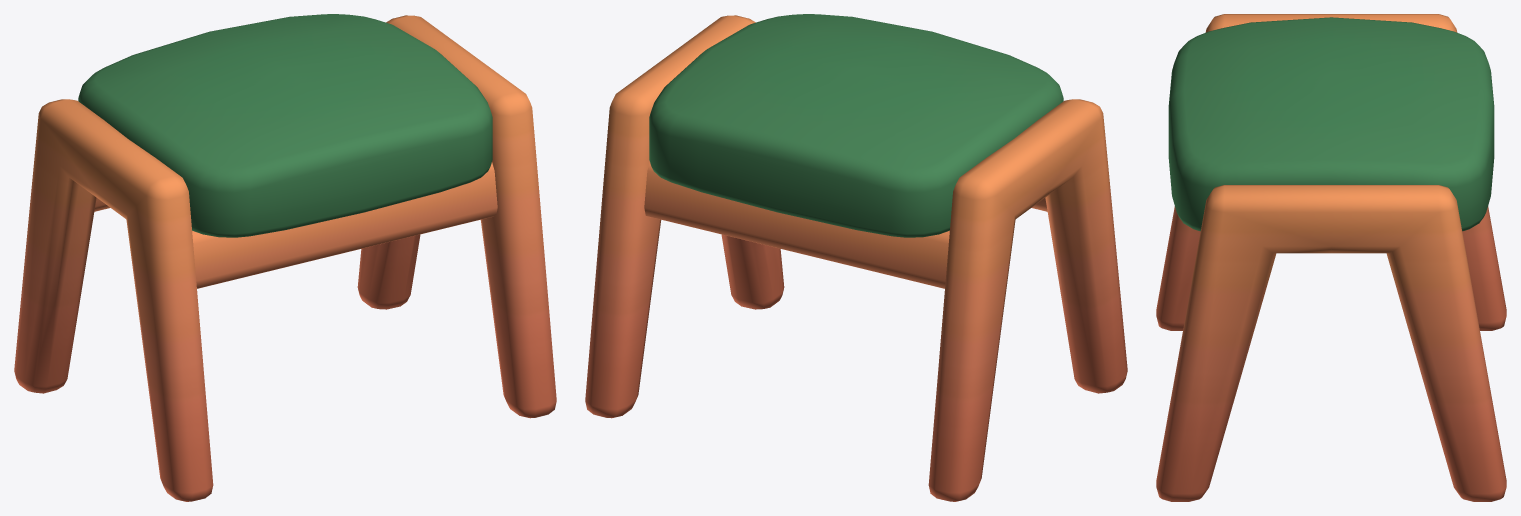
Rendered from Chair_21.glb.
3 views of the same model, side by side, from view 1: azimuth 30°, elevation 25°; view 2: azimuth 150°, elevation 25°; view 3: azimuth 270°, elevation 25° (orthographic).
Visible parts, largest first — view 1: Chair_21; view 2: Chair_21; view 3: Chair_21.
Part boxes in pixels (x1,y1,x2,y2): Chair_21: (14,14,556,501); Chair_21: (585,14,1127,501); Chair_21: (1156,14,1506,501).
Size of the model in its own units: 0.569 by 0.4688 by 0.4408.
1 material, 1 textured.
